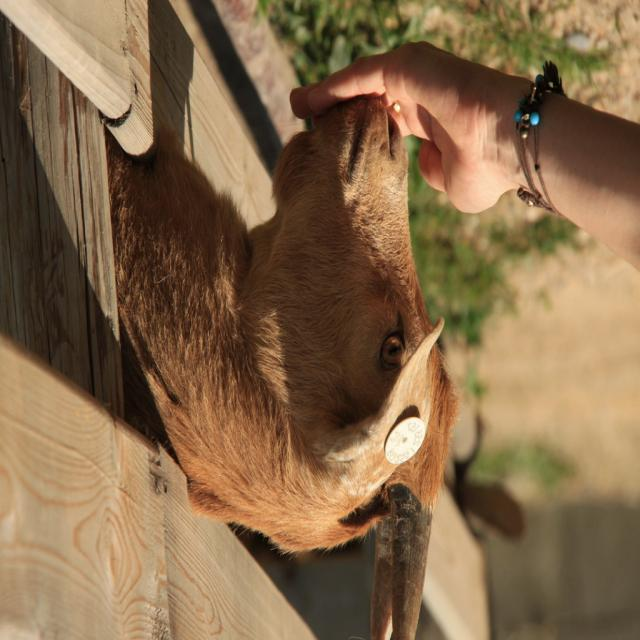Goat: (102, 95, 462, 640)
